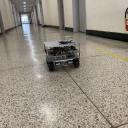cart: (43, 39, 81, 71)
